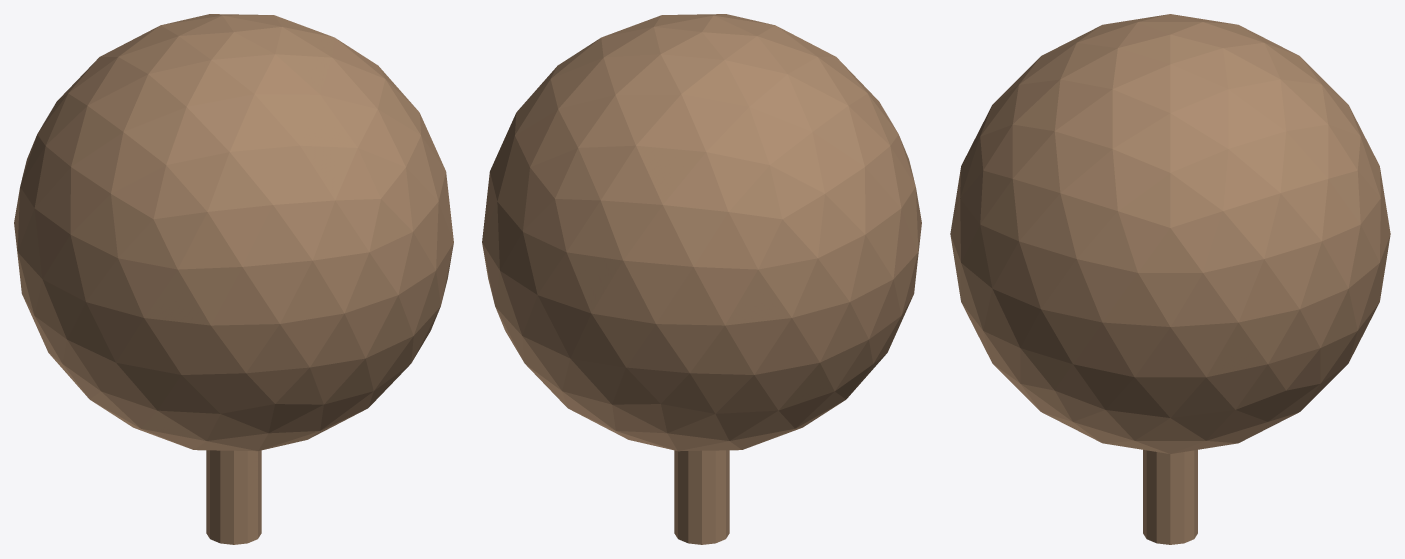
The model's file is Tree_2.glb.
3 views of the same model, side by side, from view 1: azimuth 30°, elevation 25°; view 2: azimuth 150°, elevation 25°; view 3: azimuth 270°, elevation 25° (orthographic).
Visible parts, largest first — view 1: Tree_2; view 2: Tree_2; view 3: Tree_2.
Boxes of the visible parts, x1=… form: Tree_2: x1=14, y1=14, x2=453, y2=544; Tree_2: x1=482, y1=14, x2=921, y2=544; Tree_2: x1=950, y1=14, x2=1390, y2=544.
Bounding box in the file's own units: 2.4 × 3 × 2.4.
